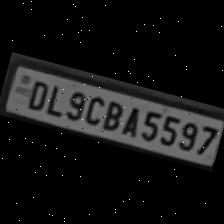5: (134, 106, 164, 142), (154, 110, 182, 148)
7: (191, 120, 219, 160)
9: (61, 86, 89, 122), (172, 117, 200, 153)
A: (118, 101, 144, 139)
B: (99, 96, 127, 132)
C: (80, 91, 108, 128)
D: (22, 76, 52, 113)
L: (42, 80, 68, 117)
